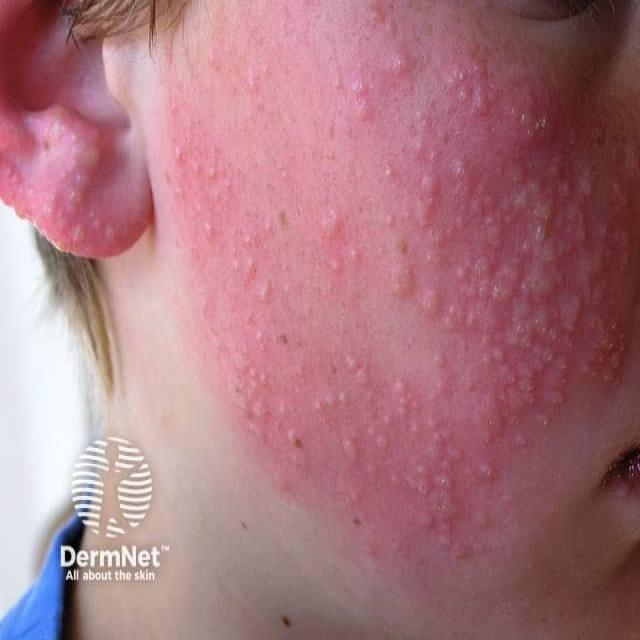Eczema: (161, 20, 630, 554), (0, 123, 119, 254)
